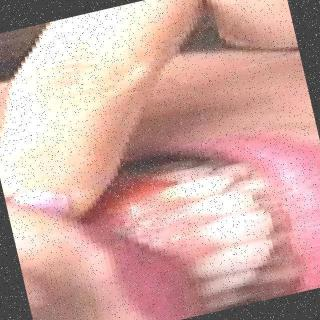Gum Swelling: (106, 180, 166, 239)
